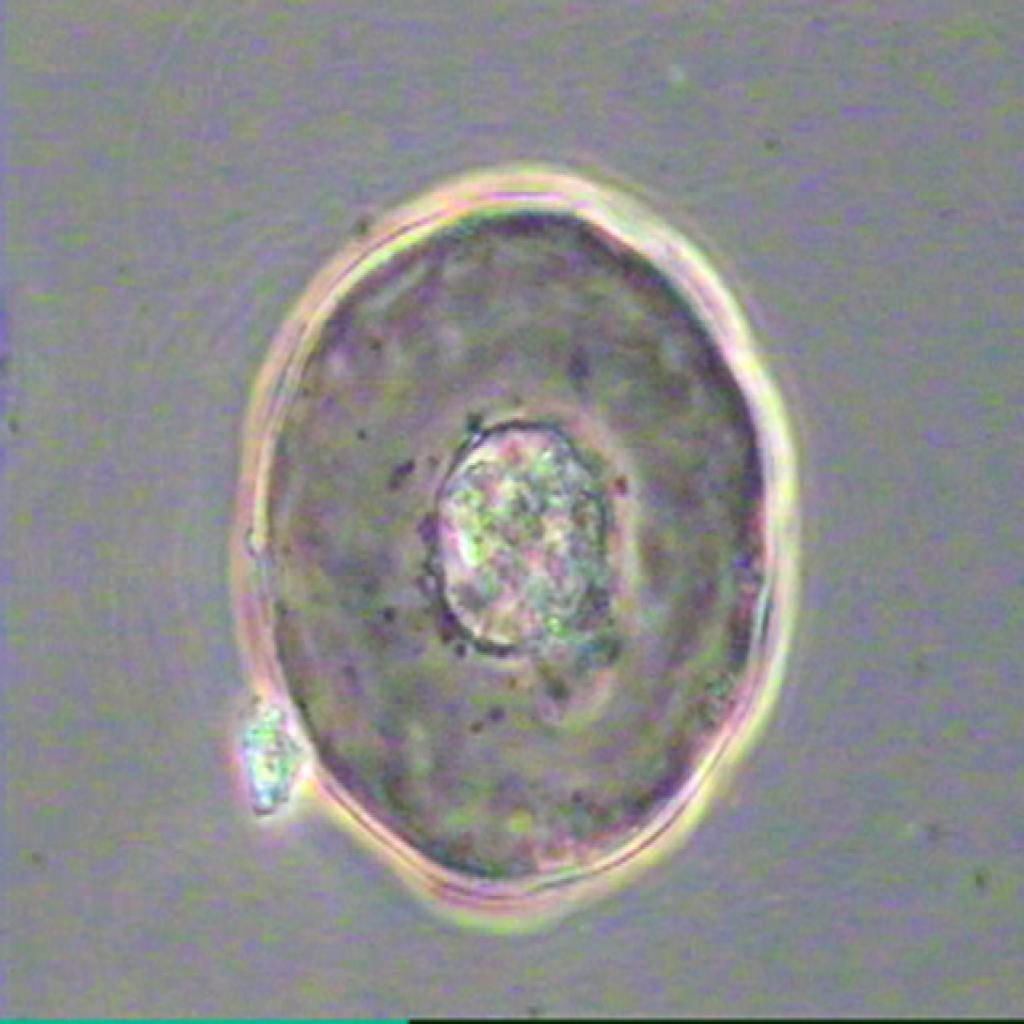Arcella: (191, 143, 803, 936)
